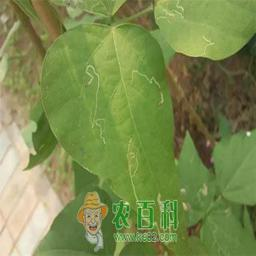liriomyza: (83, 64, 108, 145), (130, 68, 165, 106), (127, 134, 143, 202), (153, 1, 185, 23), (202, 35, 216, 56)
